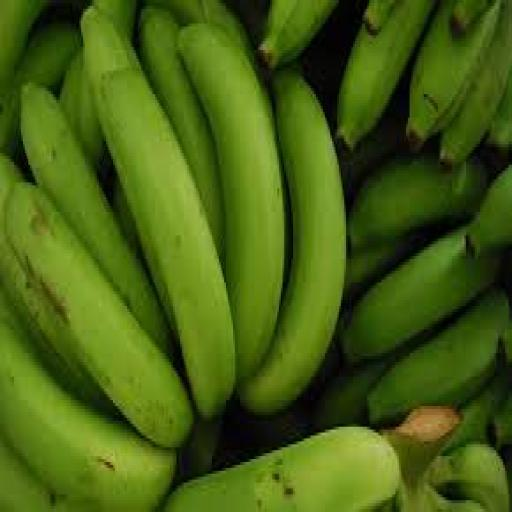banana: (82, 9, 236, 417), (6, 183, 192, 447), (22, 86, 169, 353), (179, 24, 284, 382), (241, 71, 346, 414), (0, 324, 174, 511), (0, 154, 109, 409), (140, 6, 224, 261), (343, 230, 499, 361), (165, 427, 400, 511), (368, 292, 508, 423), (0, 268, 112, 414), (348, 156, 487, 250), (385, 407, 508, 511), (0, 24, 79, 155), (119, 180, 176, 332), (384, 407, 459, 511), (0, 436, 93, 511), (338, 106, 406, 200), (444, 368, 510, 453), (426, 445, 508, 511), (61, 53, 105, 170), (61, 51, 104, 170), (59, 51, 102, 167), (345, 236, 420, 300), (315, 362, 386, 429), (467, 165, 511, 255), (244, 404, 310, 453), (179, 418, 222, 479), (112, 180, 141, 255), (486, 71, 511, 155), (491, 392, 511, 447), (502, 321, 511, 364)
